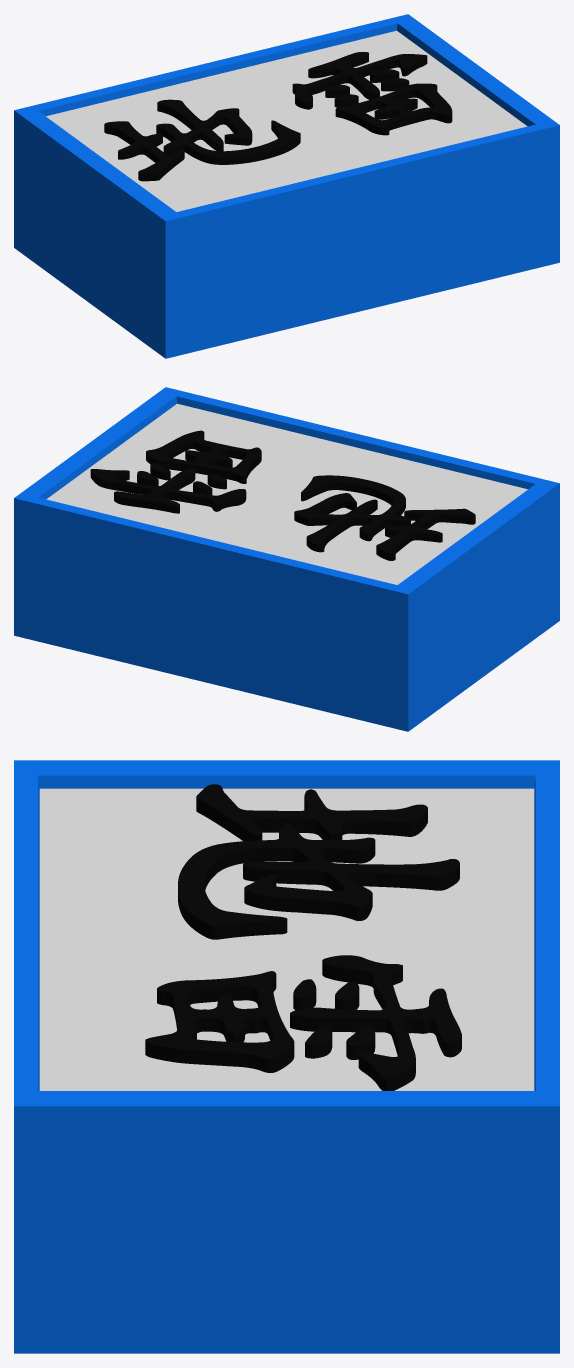
The model's file is i_di_lei.fbx.
3 renders of one model, top to bottom at view 1: azimuth 30°, elevation 25°; view 2: azimuth 150°, elevation 25°; view 3: azimuth 270°, elevation 25°, orthographic. The views are drawn at different scales.
Visible parts, largest first — view 1: Cube, 文本; view 2: Cube, 文本; view 3: Cube, 文本.
Boxes of the visible parts, left/top/right/bottom form: Cube: left=14, top=14, right=559, bottom=358; 文本: left=104, top=52, right=452, bottom=181; Cube: left=14, top=387, right=559, bottom=731; 文本: left=90, top=430, right=475, bottom=560; Cube: left=14, top=760, right=559, bottom=1353; 文本: left=145, top=784, right=461, bottom=1090.
Bounding box in the file's own units: 240 × 80.47 × 160.
